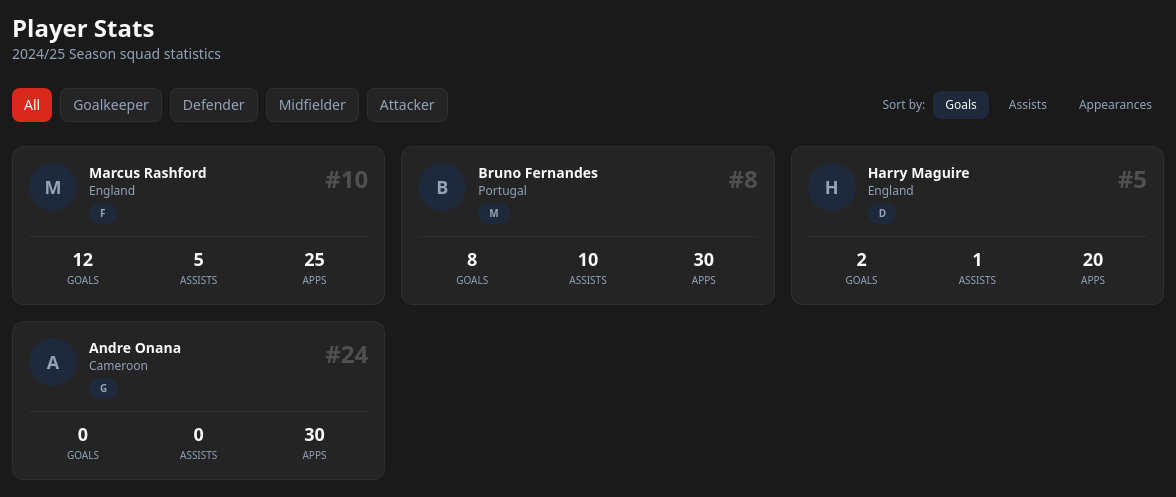
Test case: PlayerStatsPage › filters by Goalkeeper position
This screenshot has width=1176, height=497.
Click the button "Goalkeeper": (111, 105) [60, 88, 162, 122]
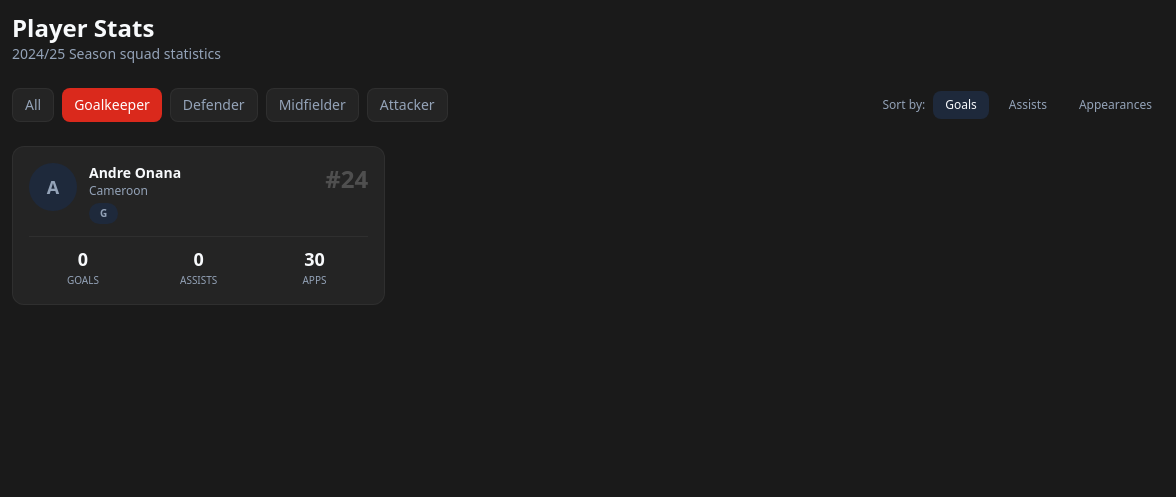
Expected: the text "Andre Onana" is shown, [89, 163, 181, 182]
Now the text "Marcus Rashford" is gone
